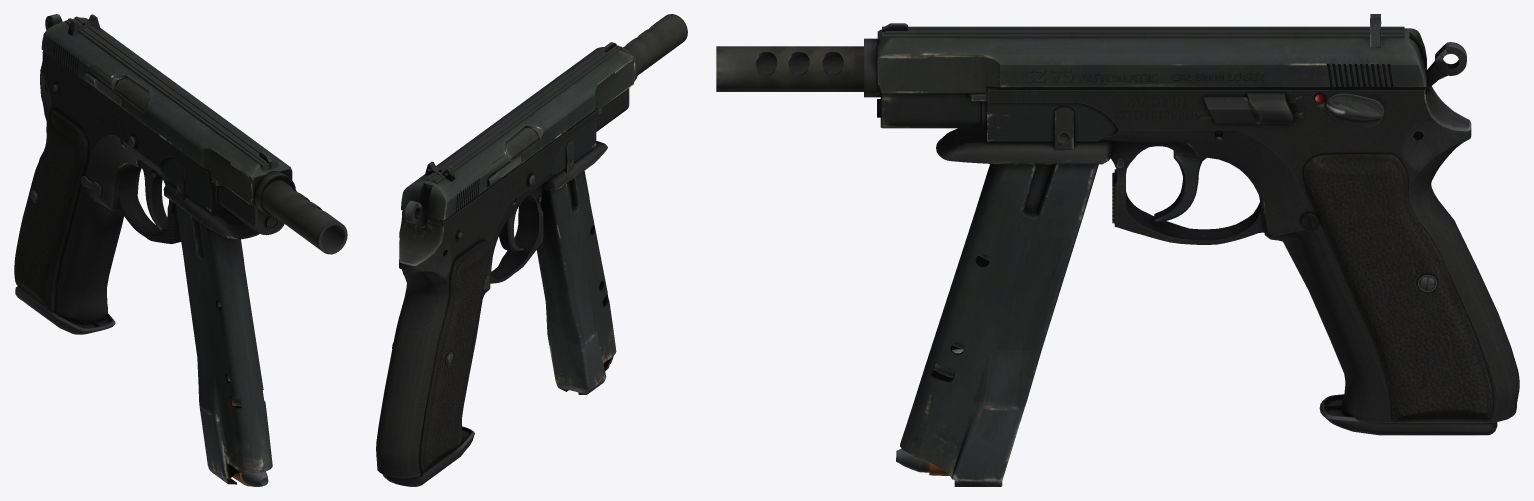
3 renders of one model, left to right at view 1: azimuth 30°, elevation 25°; view 2: azimuth 150°, elevation 25°; view 3: azimuth 270°, elevation 25°, orthographic. The views are drawn at different scales.
Visible parts, largest first — view 1: cz75; view 2: cz75; view 3: cz75.
Boxes of the visible parts, bbox=[...] form: cz75: bbox=[14, 14, 347, 486]; cz75: bbox=[376, 14, 687, 486]; cz75: bbox=[716, 14, 1519, 486].
Size of the model in its own units: 1.3 by 6.8 by 10.79.
1 material, 1 textured.
